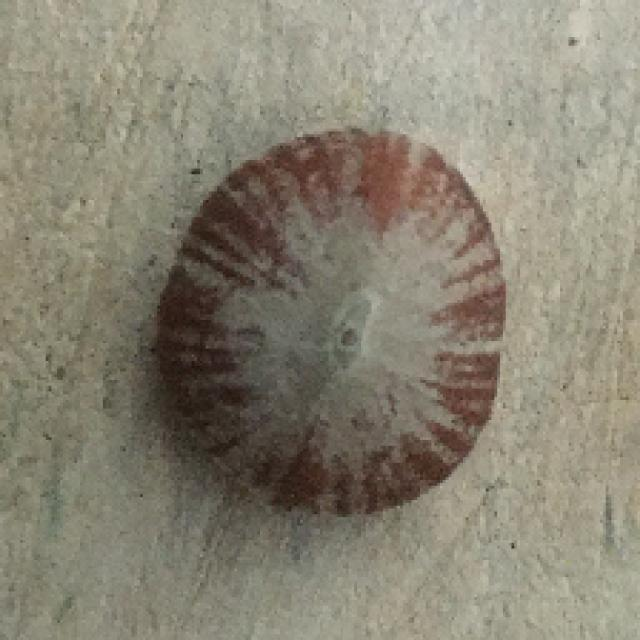qualityHazelnut: (154, 121, 502, 526)
